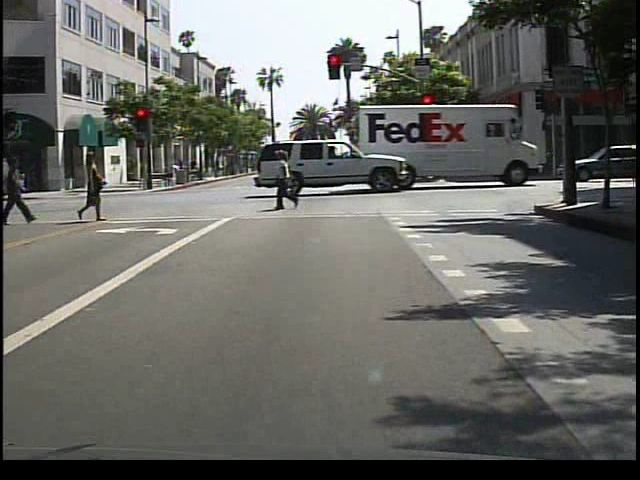person: (79, 148, 112, 225), (273, 148, 310, 214), (8, 153, 38, 227), (189, 156, 202, 180)
